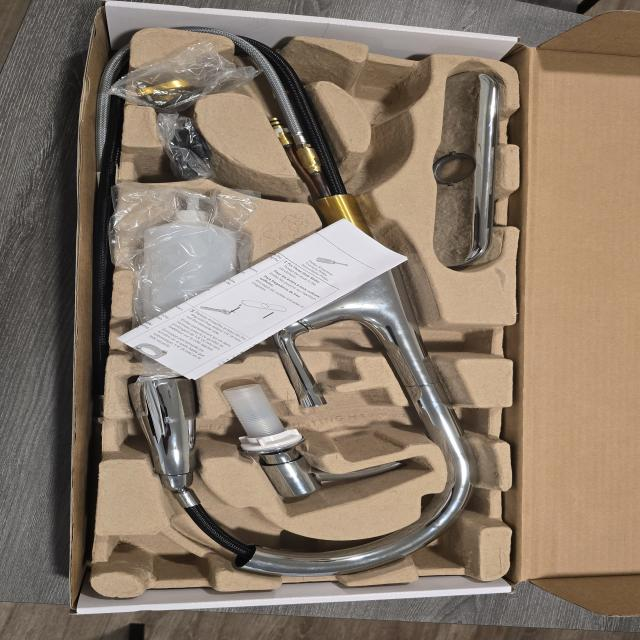1o: (125, 39, 476, 578)
2: (222, 383, 409, 500)
3o: (136, 194, 238, 353)
4: (434, 72, 500, 268)
5m: (357, 72, 405, 120)
6: (114, 44, 249, 111)
7: (163, 117, 215, 178)
8: (118, 218, 408, 380)
